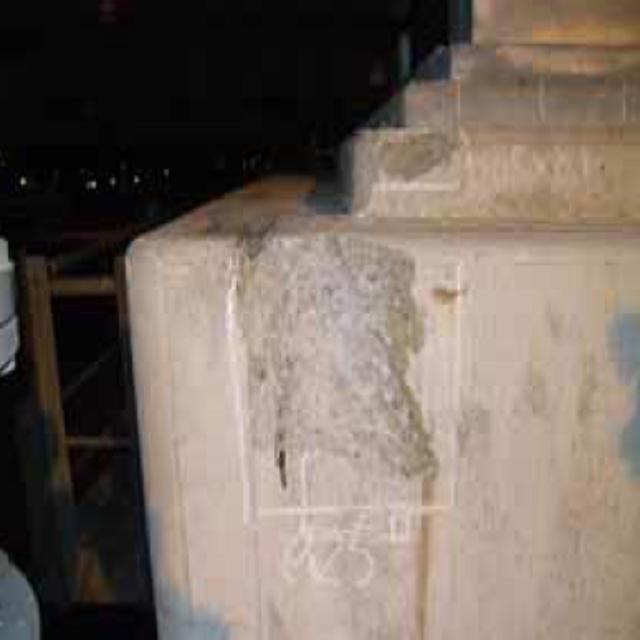spalling: (223, 206, 444, 514)
